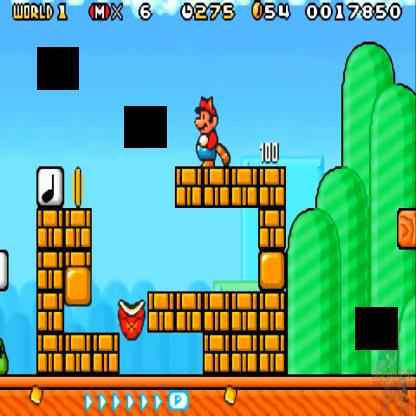Mario: (192, 93, 228, 167)
caparazon: (115, 292, 147, 342)
moneda: (69, 162, 88, 212), (252, 1, 265, 22)
